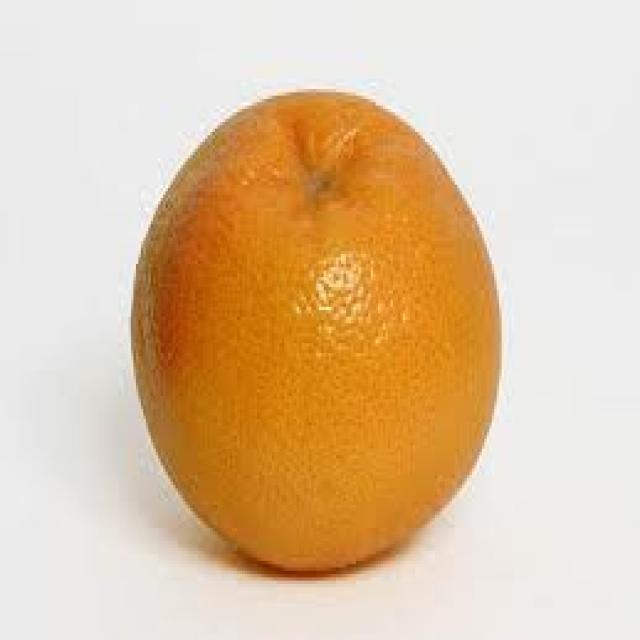greapefurit: (124, 76, 499, 580)
